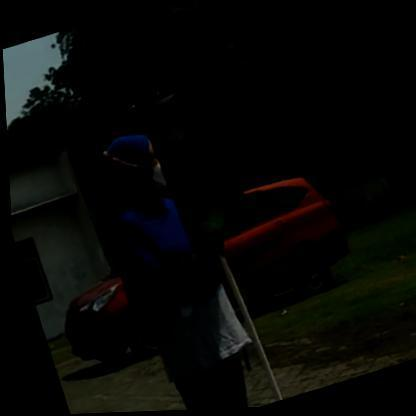green: (132, 82, 255, 256)
